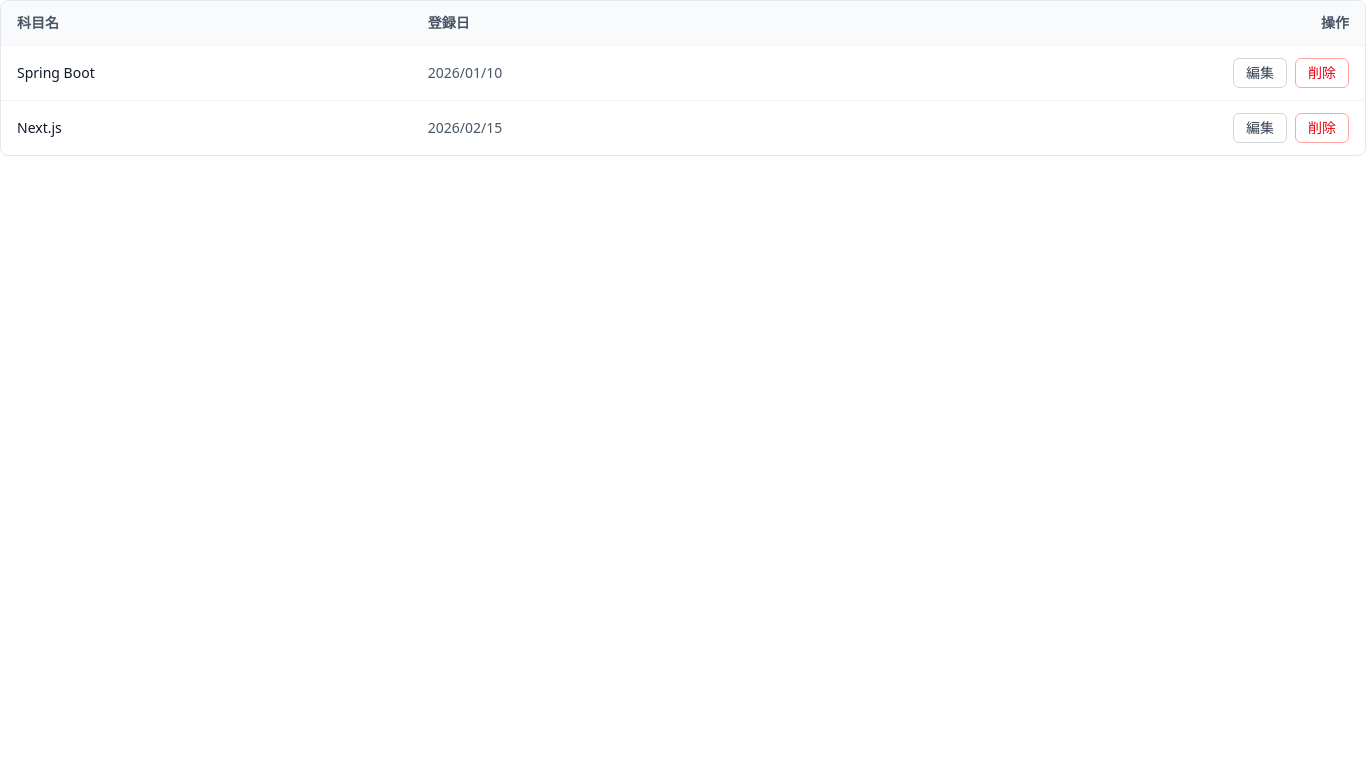
Scenario: SubjectList › 削除確定で行が消え、成功トーストが出る
The width and height of the screenshot is (1366, 768).
Click the button "削除" in the row of "Spring Boot".
click(1322, 73)  # box [1295,58,1349,88]
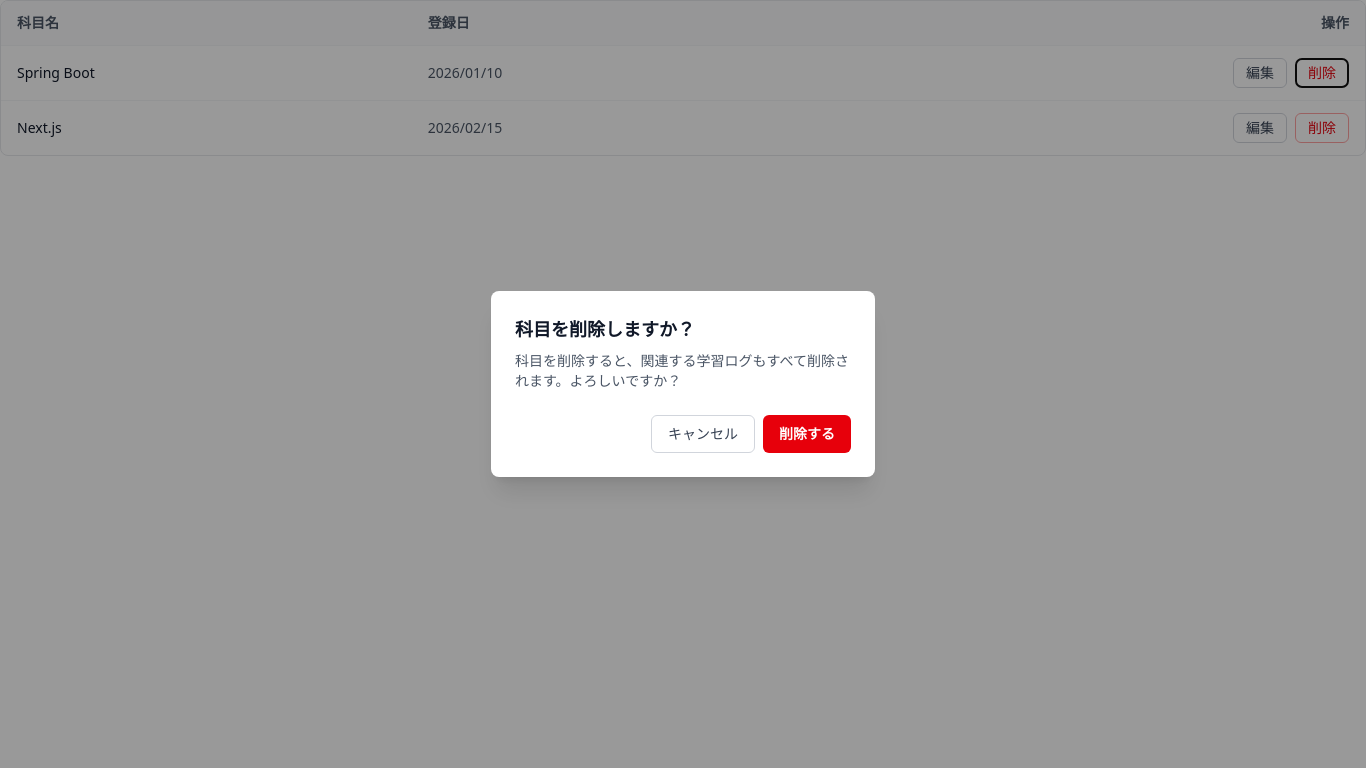
Click the button "削除する".
click(807, 434)  # box [763,415,851,453]
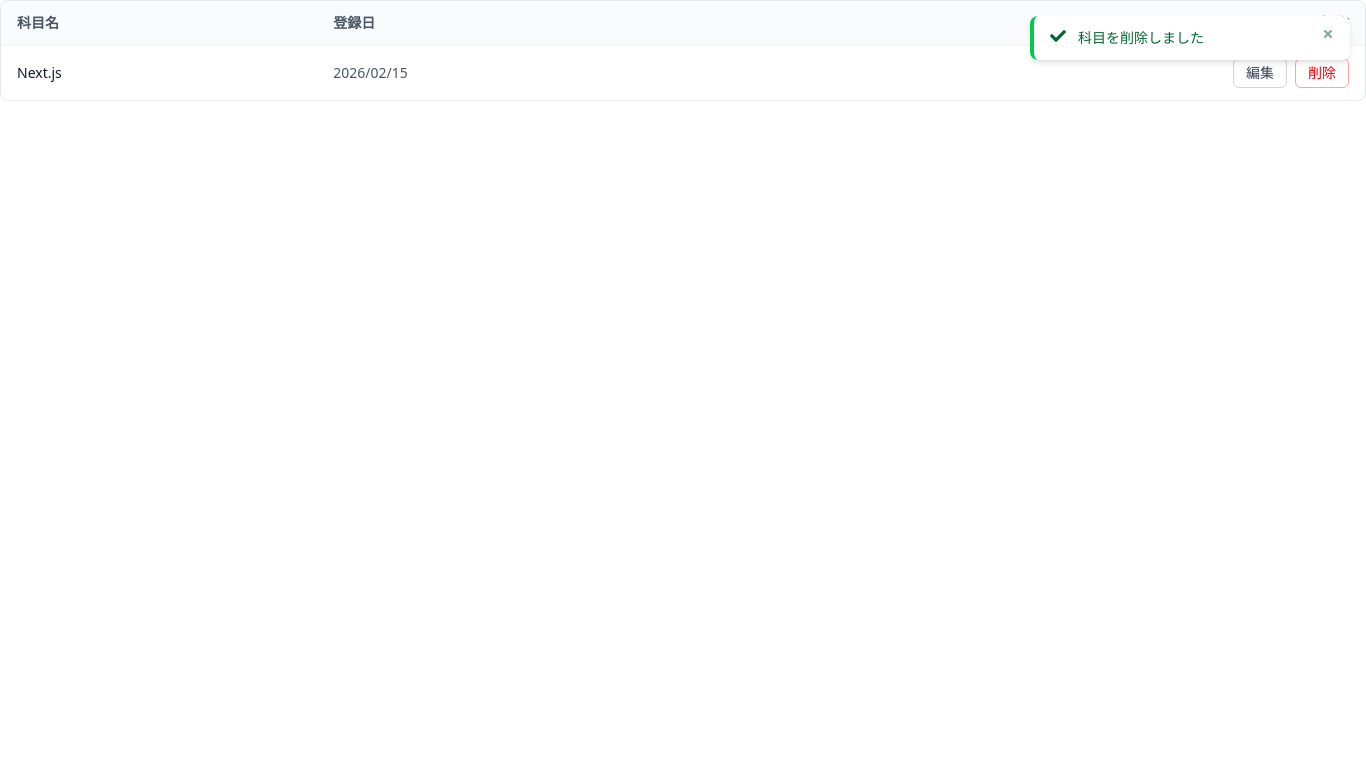
Check: the text "Spring Boot" is gone
Check: the text "科目を削除しました" is shown, box [1078,28,1204,47]
